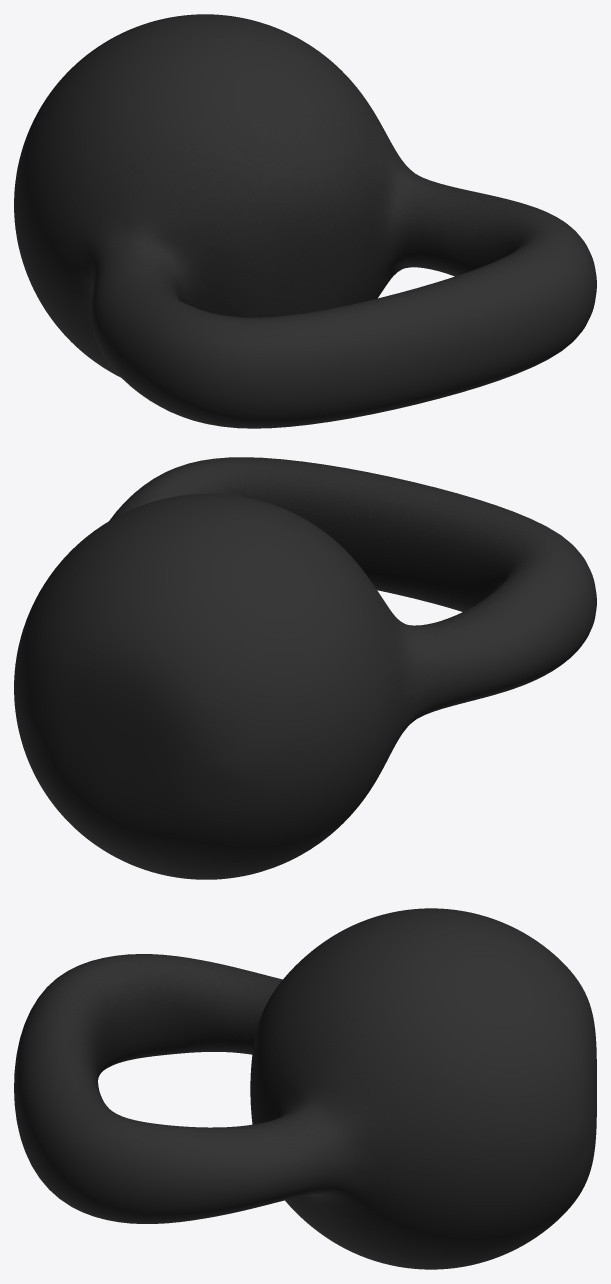
The model's file is 11729_Kettlebell_v1_L3.obj.
The picture shows the model from 3 angles, top to bottom: view 1: azimuth 30°, elevation 25°; view 2: azimuth 150°, elevation 25°; view 3: azimuth 270°, elevation 25°; orthographic projection. The views are drawn at different scales.
Visible parts, largest first — view 1: 11729_Kettlebell; view 2: 11729_Kettlebell; view 3: 11729_Kettlebell.
Part boxes in pixels (x1,y1,x2,y2): 11729_Kettlebell: (14,14,596,428); 11729_Kettlebell: (14,457,596,879); 11729_Kettlebell: (14,908,596,1269).
Size of the model in its own units: 49.97 by 36.87 by 59.49.
Materials: 1 (1 with a texture image).
